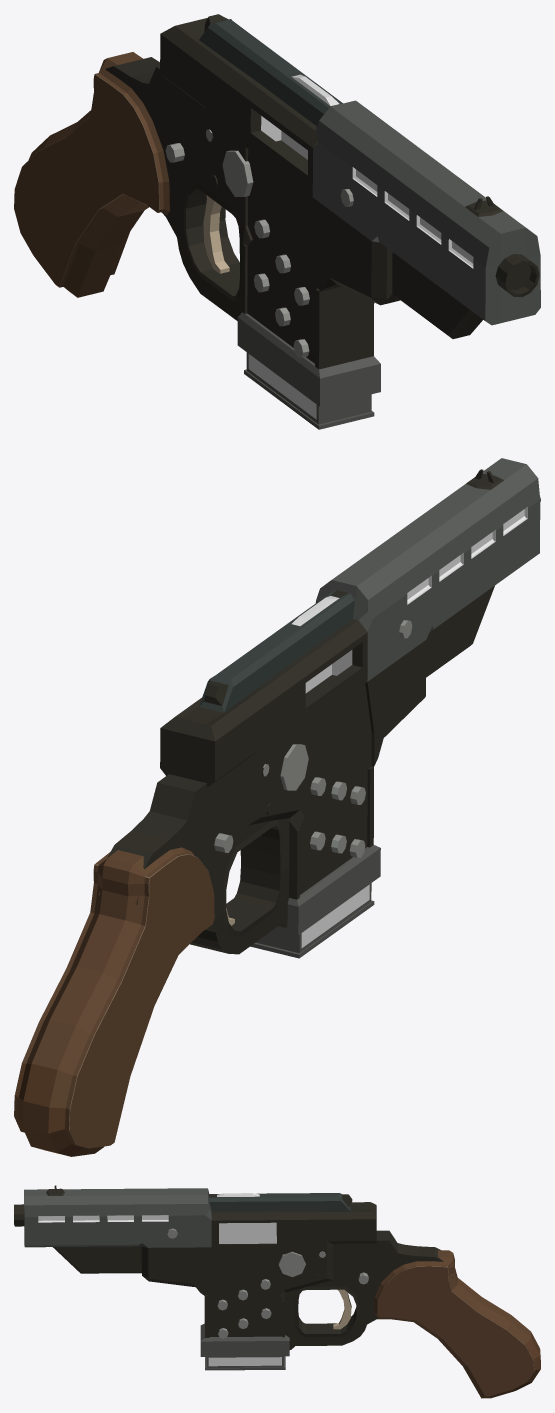
Rendered from plazma pistol.fbx.
The picture shows the model from 3 angles, top to bottom: view 1: azimuth 30°, elevation 25°; view 2: azimuth 150°, elevation 25°; view 3: azimuth 270°, elevation 25°; orthographic projection. The views are drawn at different scales.
Visible parts, largest first — view 1: Cube; view 2: Cube; view 3: Cube.
Boxes of the visible parts, left/top/right/bottom form: Cube: left=14, top=14, right=540, bottom=429; Cube: left=14, top=458, right=540, bottom=1156; Cube: left=14, top=1185, right=540, bottom=1398.
Bounding box in the file's own units: 12.43 × 72.59 × 167.
Materials: 2 (1 with a texture image).
